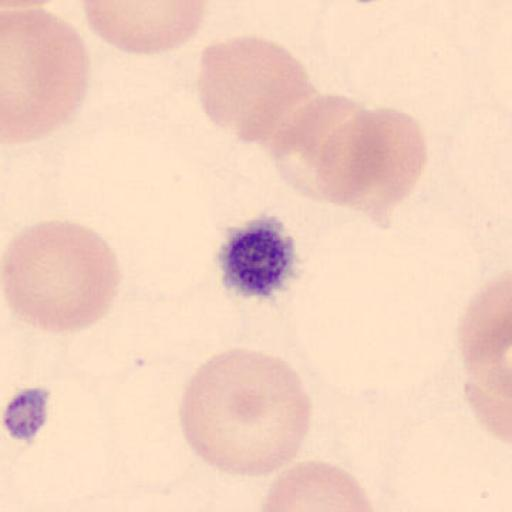Platelet: (215, 214, 303, 301)
RBC: (177, 346, 314, 476), (2, 218, 122, 336), (196, 35, 319, 146), (314, 105, 430, 219), (266, 93, 381, 206), (1, 6, 91, 146), (458, 270, 512, 451), (310, 104, 385, 206), (80, 0, 208, 56), (257, 458, 380, 512), (1, 0, 69, 7)
